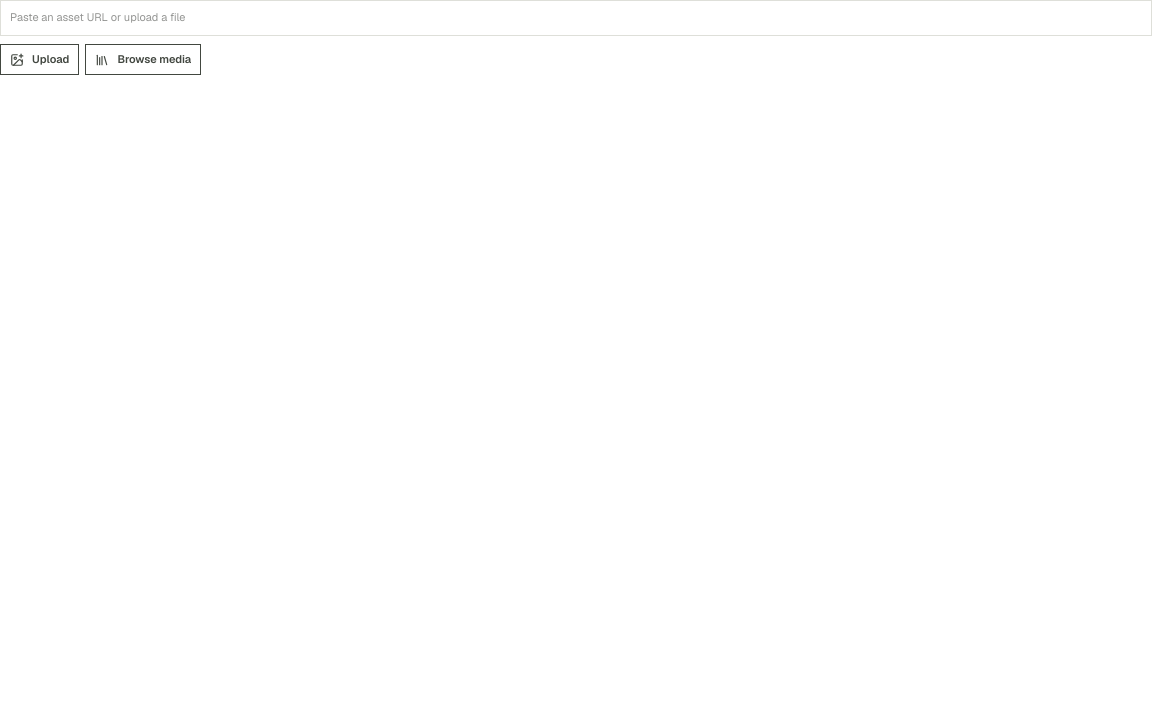
Scenario: CMS media fields › closes the media library with Escape
Click the button "Browse media" at {"x": 143, "y": 60}, box [85, 44, 201, 75]
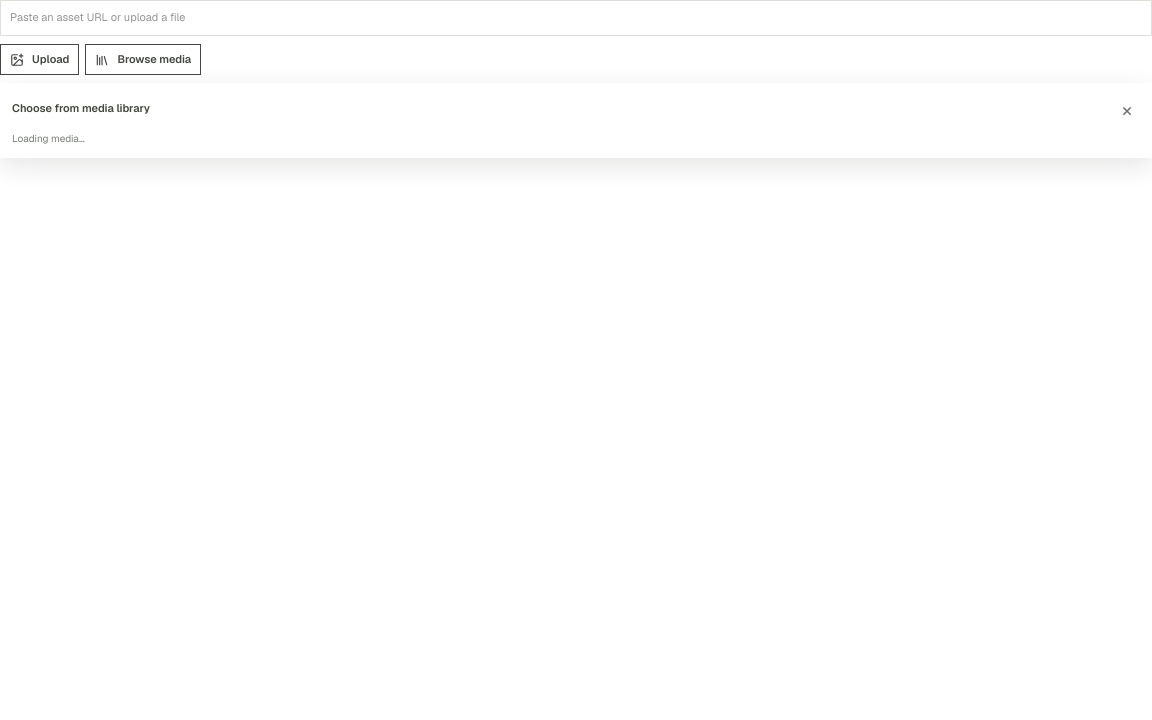
Now the dialog named "Choose image value" is shown, box [0, 83, 1151, 158]
Press Escape
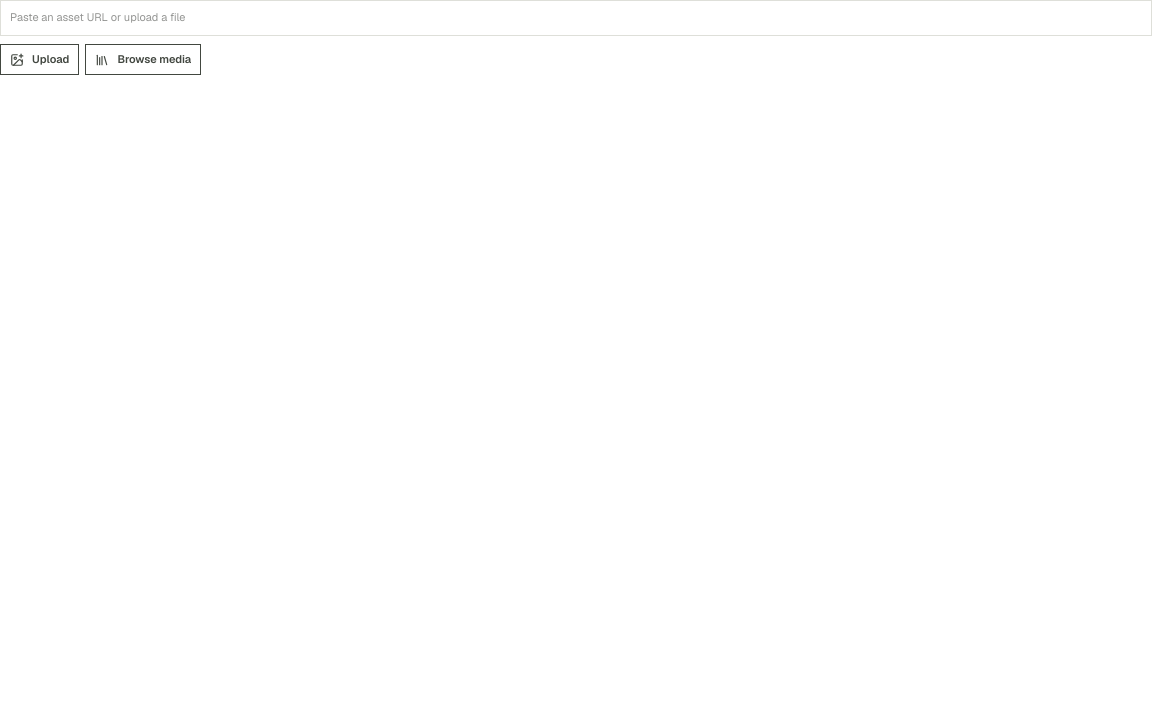
Now the dialog is gone
